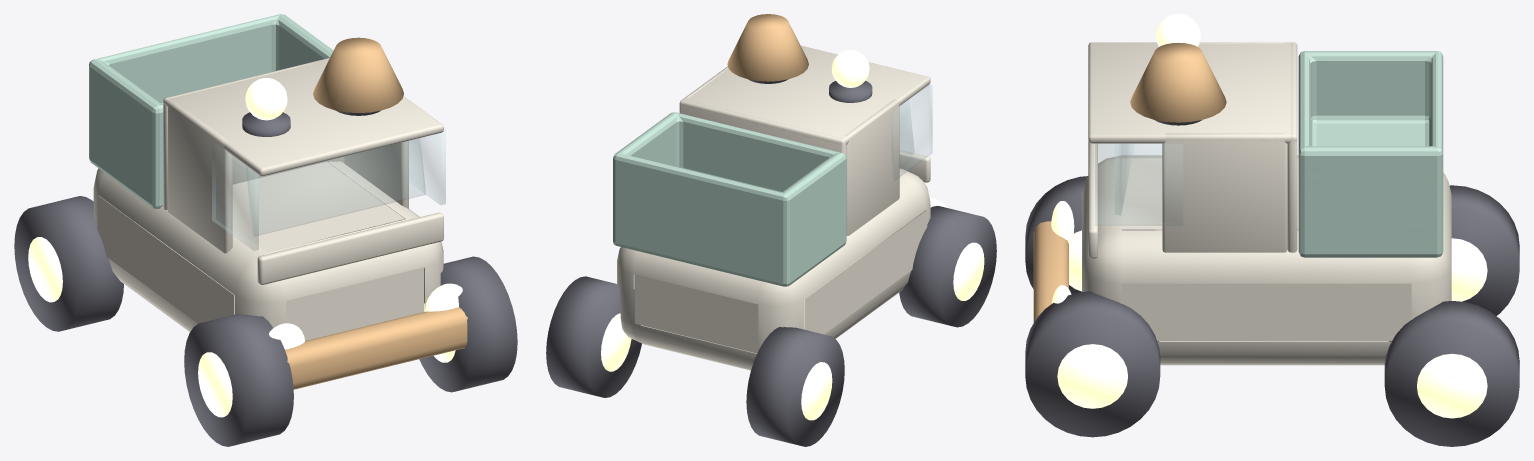
File: 01_Truck_Body.glb
3 renders of one model, left to right at view 1: azimuth 30°, elevation 25°; view 2: azimuth 150°, elevation 25°; view 3: azimuth 270°, elevation 25°, orthographic. The views are drawn at different scales.
Parts seen in each view (by area): view 1: Cabin, Wheel_FL_Hub, Body_Cover, OpenBin, Body_base, Wheel_RR_Hub, Speaker_Cone, SignalLED, SignalBase; view 2: OpenBin, Cabin, Wheel_RR_Hub, Body_base, Body_Cover, Wheel_FL_Hub, Speaker_Cone, SignalLED, SignalBase; view 3: Cabin, OpenBin, Wheel_RR_Hub, Body_base, Wheel_FL_Hub, Body_Cover, Speaker_Cone, SignalLED.
Boxes of the visible parts, bbox=[...] form: Cabin: bbox=[163, 58, 445, 284]; Wheel_FL_Hub: bbox=[184, 256, 517, 446]; Body_Cover: bbox=[97, 162, 424, 340]; OpenBin: bbox=[89, 14, 333, 208]; Body_base: bbox=[93, 161, 443, 331]; Wheel_RR_Hub: bbox=[14, 196, 123, 331]; Speaker_Cone: bbox=[313, 37, 403, 113]; SignalLED: bbox=[245, 78, 287, 120]; SignalBase: bbox=[242, 112, 290, 136]; OpenBin: bbox=[613, 112, 846, 286]; Cabin: bbox=[679, 45, 932, 235]; Wheel_RR_Hub: bbox=[546, 276, 844, 446]; Body_base: bbox=[617, 168, 930, 370]; Body_Cover: bbox=[633, 210, 927, 353]; Wheel_FL_Hub: bbox=[893, 198, 996, 327]; Speaker_Cone: bbox=[727, 14, 808, 81]; SignalLED: bbox=[831, 50, 869, 87]; SignalBase: bbox=[829, 81, 872, 102]; Cabin: bbox=[1088, 42, 1297, 258]; OpenBin: bbox=[1298, 51, 1443, 257]; Wheel_RR_Hub: bbox=[1384, 185, 1519, 446]; Body_base: bbox=[1082, 155, 1451, 365]; Wheel_FL_Hub: bbox=[1025, 176, 1160, 437]; Body_Cover: bbox=[1122, 158, 1411, 341]; Speaker_Cone: bbox=[1130, 42, 1226, 122]; SignalLED: bbox=[1156, 14, 1200, 46].
Bounding box in the file's own units: 2.07 × 2.4 × 3.08.
